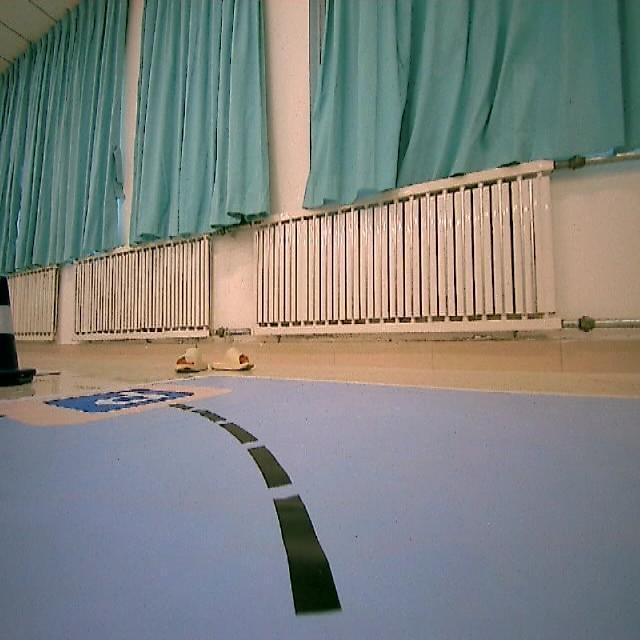obstacle: (0, 269, 40, 389)
